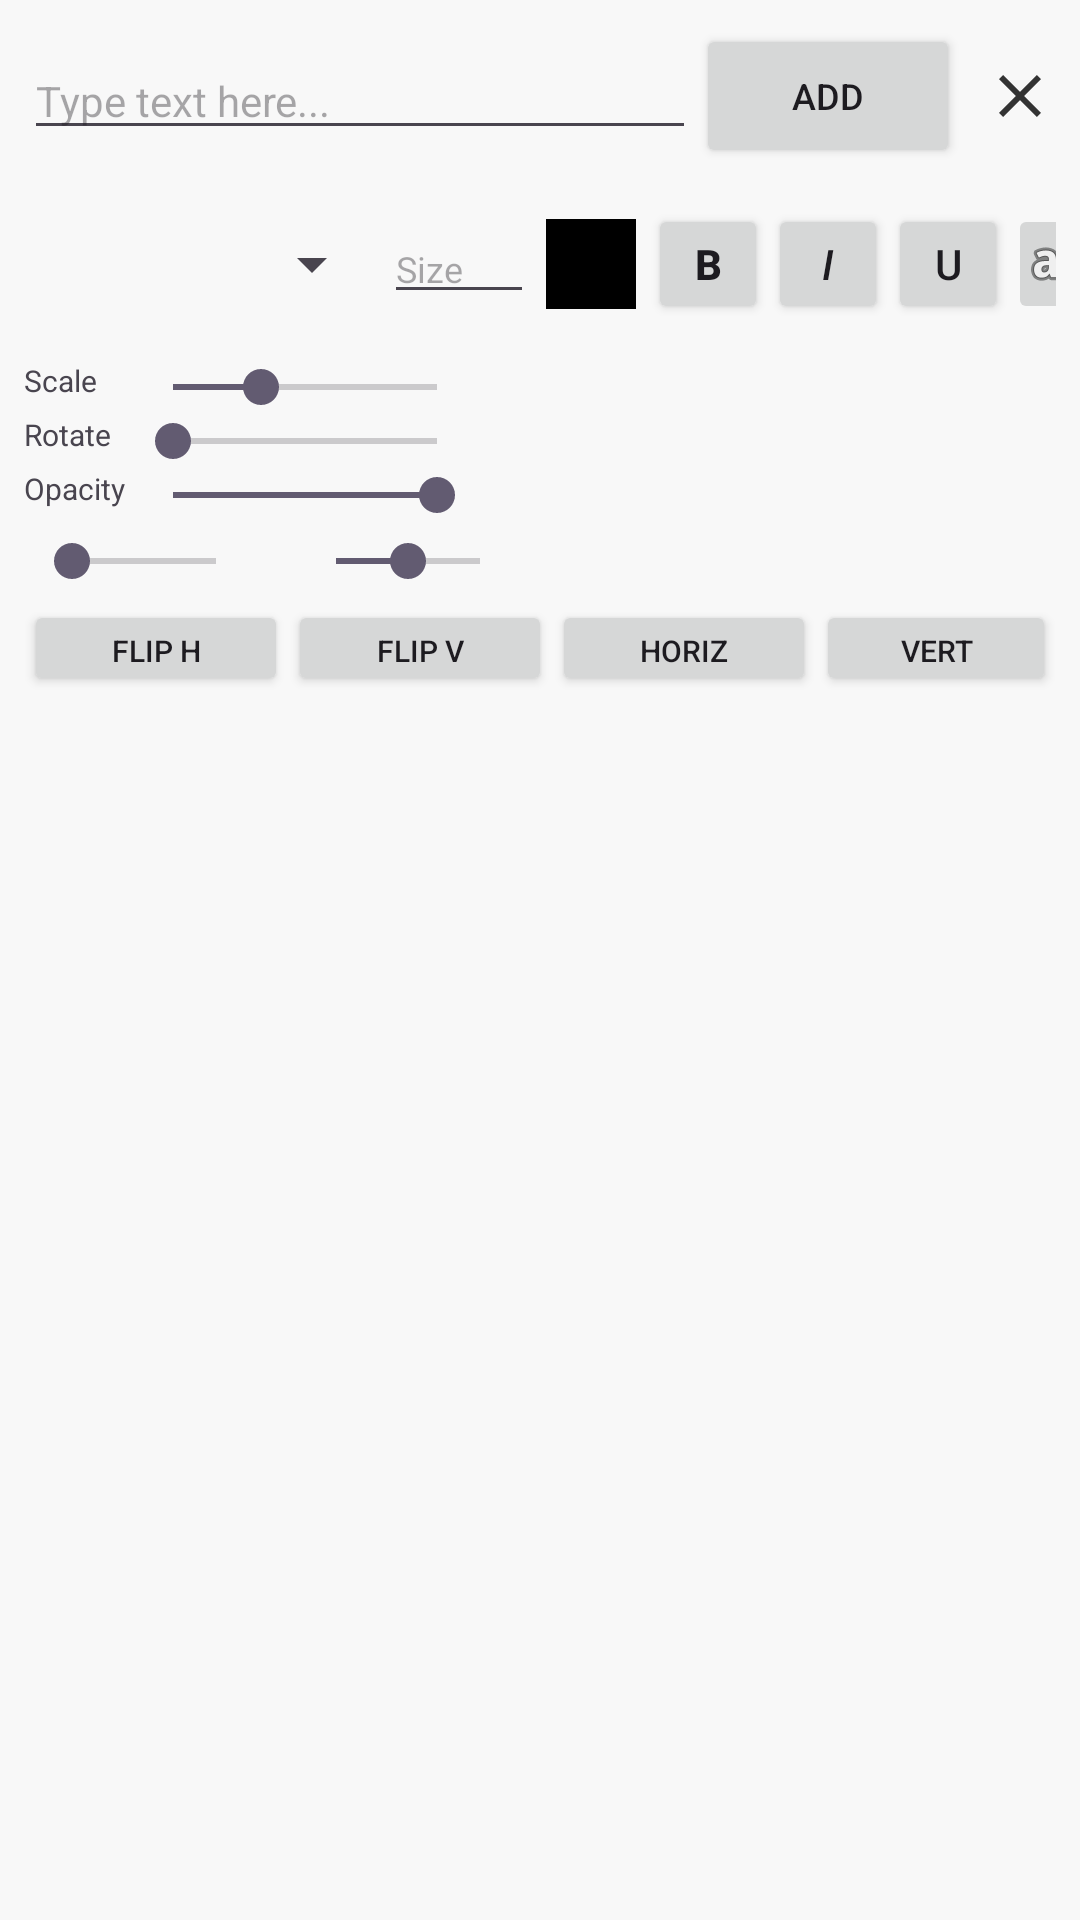

Named icons in this screenshot (1080*1920) and their centers, (x,y):
close: (1020,96)
